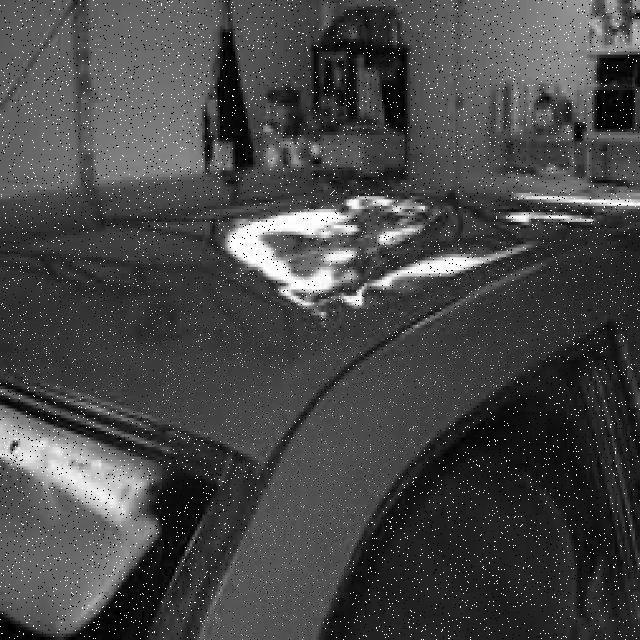roof-dent: (0, 168, 528, 515)
